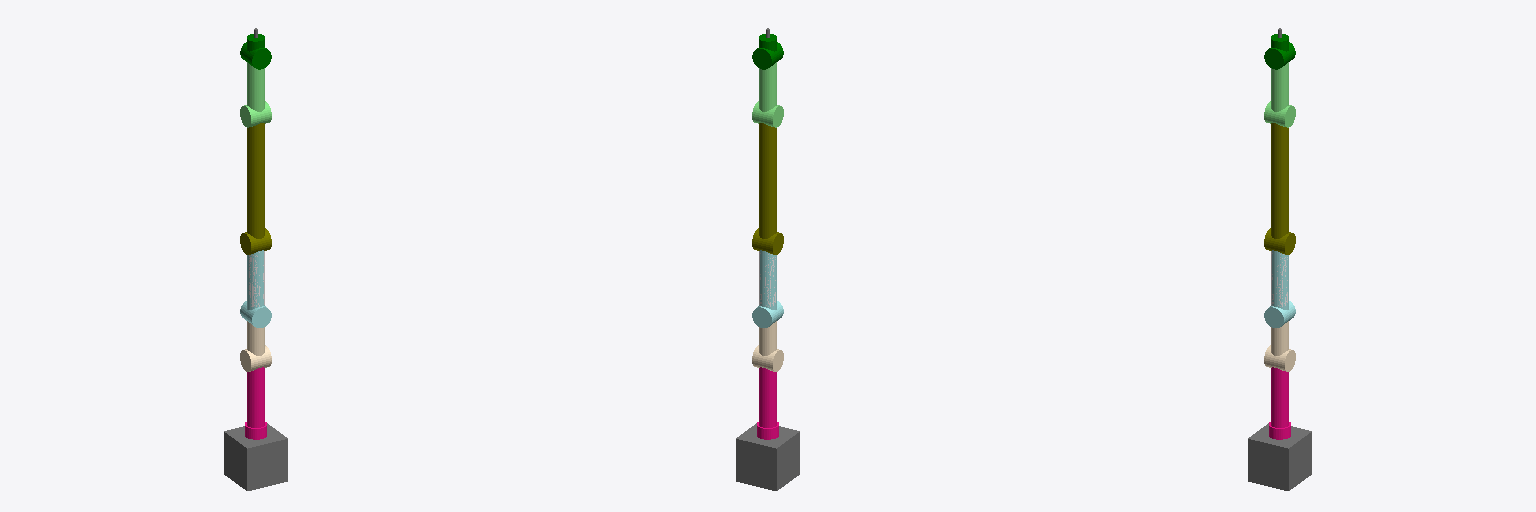
The robot description file, URDF, robot "test_robot":
<?xml version="1.0" ?>
<robot name="test_robot">
    <link name="base_link">
        <inertial>
            <mass value="1.0"/>
            <inertia ixx="0.010416666666666666" iyy="0.010416666666666666" izz="0.010416666666666666" ixy="0.0" ixz="0.0" iyz="0.0"/>
            <origin xyz="0 0 0" rpy="0 0 0"/>
        </inertial>
        <visual>
            <origin xyz="0 0 0" rpy="0 0 0"/>
            <geometry>
                <box size="0.25 0.25 0.25"/>
            </geometry>
            <material name="gray">
                <color rgba="0.5 0.5 0.5 1"/>
            </material>
        </visual>
    </link>
    <joint name="joint_viz0" type="fixed">
        <parent link="base_link"/>
        <child link="joint_viz_link0"/>
        <origin xyz="0 0 0.125" rpy="0 0 0"/>
    </joint>
    <link name="joint_viz_link0">
        <inertial>
            <mass value="0.0"/>
            <inertia ixx="0.0" iyy="0.0" izz="0.0" ixy="0.0" ixz="0.0" iyz="0.0"/>
            <origin xyz="0 0 0" rpy="0 0 0"/>
        </inertial>
        <visual>
            <origin xyz="0 0 0" rpy="0 0 0"/>
            <geometry>
                <cylinder length="0.125" radius="0.06"/>
            </geometry>
            <material name="deeppink">
                <color rgba="1.0 0.0784313725490196 0.5764705882352941 1.0"/>
            </material>
        </visual>
    </link>
    <joint name="joint0" type="revolute">
        <parent link="base_link"/>
        <child link="link0"/>
        <origin xyz="0 0 0.125" rpy="0 0 0"/>
        <axis xyz="0 0 1"/>
        <limit lower="-3.14" upper="3.14" effort="10" velocity="1"/>
    </joint>
    <link name="link0">
        <inertial>
            <mass value="1.0"/>
            <inertia ixx="0.017152729819086193" iyy="0.017152729819086193" izz="0.0012500000000000002" ixy="0.0" ixz="0.0" iyz="0.0"/>
            <origin xyz="0 0 0.22267283053228246" rpy="0 0 0"/>
        </inertial>
        <visual>
            <origin xyz="0 0 0.22267283053228246" rpy="0 0 0"/>
            <geometry>
                <cylinder length="0.4453456610645649" radius="0.05"/>
            </geometry>
            <material name="deeppink">
                <color rgba="1.0 0.0784313725490196 0.5764705882352941 1.0"/>
            </material>
        </visual>
        <collision>
            <origin xyz="0 0 0.22267283053228246" rpy="0 0 0"/>
            <geometry>
                <cylinder length="0.4453456610645649" radius="0.05"/>
            </geometry>
        </collision>
    </link>
    <joint name="joint_viz1" type="fixed">
        <parent link="link0"/>
        <child link="joint_viz_link1"/>
        <origin xyz="0 0 0.4453456610645649" rpy="0 0 0"/>
    </joint>
    <link name="joint_viz_link1">
        <inertial>
            <mass value="0.0"/>
            <inertia ixx="0.0" iyy="0.0" izz="0.0" ixy="0.0" ixz="0.0" iyz="0.0"/>
            <origin xyz="0 0 0" rpy="0 1.57 0"/>
        </inertial>
        <visual>
            <origin xyz="0 0 0" rpy="0 1.57 0"/>
            <geometry>
                <cylinder length="0.125" radius="0.06"/>
            </geometry>
            <material name="blanchedalmond">
                <color rgba="1.0 0.9215686274509803 0.803921568627451 1.0"/>
            </material>
        </visual>
    </link>
    <joint name="joint1" type="revolute">
        <parent link="link0"/>
        <child link="link1"/>
        <origin xyz="0 0 0.4453456610645649" rpy="0 0 0"/>
        <axis xyz="1 0 0"/>
        <limit lower="-3.14" upper="3.14" effort="10" velocity="1"/>
    </joint>
    <link name="link1">
        <inertial>
            <mass value="1.0"/>
            <inertia ixx="0.006338377265924566" iyy="0.006338377265924566" izz="0.0012500000000000002" ixy="0.0" ixz="0.0" iyz="0.0"/>
            <origin xyz="0 0 0.13092032614446733" rpy="0 0 0"/>
        </inertial>
        <visual>
            <origin xyz="0 0 0.13092032614446733" rpy="0 0 0"/>
            <geometry>
                <cylinder length="0.26184065228893466" radius="0.05"/>
            </geometry>
            <material name="blanchedalmond">
                <color rgba="1.0 0.9215686274509803 0.803921568627451 1.0"/>
            </material>
        </visual>
        <collision>
            <origin xyz="0 0 0.13092032614446733" rpy="0 0 0"/>
            <geometry>
                <cylinder length="0.26184065228893466" radius="0.05"/>
            </geometry>
        </collision>
    </link>
    <joint name="joint_viz2" type="fixed">
        <parent link="link1"/>
        <child link="joint_viz_link2"/>
        <origin xyz="0 0 0.26184065228893466" rpy="0 0 0"/>
    </joint>
    <link name="joint_viz_link2">
        <inertial>
            <mass value="0.0"/>
            <inertia ixx="0.0" iyy="0.0" izz="0.0" ixy="0.0" ixz="0.0" iyz="0.0"/>
            <origin xyz="0 0 0" rpy="1.57 0 0"/>
        </inertial>
        <visual>
            <origin xyz="0 0 0" rpy="1.57 0 0"/>
            <geometry>
                <cylinder length="0.125" radius="0.06"/>
            </geometry>
            <material name="paleturquoise">
                <color rgba="0.6862745098039216 0.9333333333333333 0.9333333333333333 1.0"/>
            </material>
        </visual>
    </link>
    <joint name="joint2" type="revolute">
        <parent link="link1"/>
        <child link="link2"/>
        <origin xyz="0 0 0.26184065228893466" rpy="0 0 0"/>
        <axis xyz="0 1 0"/>
        <limit lower="-3.14" upper="3.14" effort="10" velocity="1"/>
    </joint>
    <link name="link2">
        <inertial>
            <mass value="1.0"/>
            <inertia ixx="0.013798214357304606" iyy="0.013798214357304606" izz="0.0012500000000000002" ixy="0.0" ixz="0.0" iyz="0.0"/>
            <origin xyz="0 0 0.19879548051179086" rpy="0 0 0"/>
        </inertial>
        <visual>
            <origin xyz="0 0 0.19879548051179086" rpy="0 0 0"/>
            <geometry>
                <cylinder length="0.3975909610235817" radius="0.05"/>
            </geometry>
            <material name="paleturquoise">
                <color rgba="0.6862745098039216 0.9333333333333333 0.9333333333333333 1.0"/>
            </material>
        </visual>
        <collision>
            <origin xyz="0 0 0.19879548051179086" rpy="0 0 0"/>
            <geometry>
                <cylinder length="0.3975909610235817" radius="0.05"/>
            </geometry>
        </collision>
    </link>
    <joint name="joint3" type="prismatic">
        <parent link="link2"/>
        <child link="link3"/>
        <origin xyz="0 0 0.061" rpy="0 0 0"/>
        <axis xyz="0 0 1"/>
        <limit lower="0" upper="0.3475909610235817" effort="10" velocity="1"/>
    </joint>
    <link name="link3">
        <inertial>
            <mass value="1.0"/>
            <inertia ixx="0.011340623110651326" iyy="0.011340623110651326" izz="0.0012500000000000002" ixy="0.0" ixz="0.0" iyz="0.0"/>
            <origin xyz="0 0 0.17929548051179087" rpy="0 0 0"/>
        </inertial>
        <visual>
            <origin xyz="0 0 0.17929548051179087" rpy="0 0 0"/>
            <geometry>
                <cylinder length="0.35859096102358173" radius="0.05"/>
            </geometry>
            <material name="snow">
                <color rgba="1.0 0.9803921568627451 0.9803921568627451 1.0"/>
            </material>
        </visual>
        <collision>
            <origin xyz="0 0 0.17929548051179087" rpy="0 0 0"/>
            <geometry>
                <cylinder length="0.35859096102358173" radius="0.05"/>
            </geometry>
        </collision>
    </link>
    <joint name="joint_viz4" type="fixed">
        <parent link="link3"/>
        <child link="joint_viz_link4"/>
        <origin xyz="0 0 0.35859096102358173" rpy="0 0 0"/>
    </joint>
    <link name="joint_viz_link4">
        <inertial>
            <mass value="0.0"/>
            <inertia ixx="0.0" iyy="0.0" izz="0.0" ixy="0.0" ixz="0.0" iyz="0.0"/>
            <origin xyz="0 0 0" rpy="0 1.57 0"/>
        </inertial>
        <visual>
            <origin xyz="0 0 0" rpy="0 1.57 0"/>
            <geometry>
                <cylinder length="0.125" radius="0.06"/>
            </geometry>
            <material name="olive">
                <color rgba="0.5019607843137255 0.5019607843137255 0.0 1.0"/>
            </material>
        </visual>
    </link>
    <joint name="joint4" type="revolute">
        <parent link="link3"/>
        <child link="link4"/>
        <origin xyz="0 0 0.35859096102358173" rpy="0 0 0"/>
        <axis xyz="1 0 0"/>
        <limit lower="-3.14" upper="3.14" effort="10" velocity="1"/>
    </joint>
    <link name="link4">
        <inertial>
            <mass value="1.0"/>
            <inertia ixx="0.0464619865386217" iyy="0.0464619865386217" izz="0.0012500000000000002" ixy="0.0" ixz="0.0" iyz="0.0"/>
            <origin xyz="0 0 0.37082470200333895" rpy="0 0 0"/>
        </inertial>
        <visual>
            <origin xyz="0 0 0.37082470200333895" rpy="0 0 0"/>
            <geometry>
                <cylinder length="0.7416494040066779" radius="0.05"/>
            </geometry>
            <material name="olive">
                <color rgba="0.5019607843137255 0.5019607843137255 0.0 1.0"/>
            </material>
        </visual>
        <collision>
            <origin xyz="0 0 0.37082470200333895" rpy="0 0 0"/>
            <geometry>
                <cylinder length="0.7416494040066779" radius="0.05"/>
            </geometry>
        </collision>
    </link>
    <joint name="joint_viz5" type="fixed">
        <parent link="link4"/>
        <child link="joint_viz_link5"/>
        <origin xyz="0 0 0.7416494040066779" rpy="0 0 0"/>
    </joint>
    <link name="joint_viz_link5">
        <inertial>
            <mass value="0.0"/>
            <inertia ixx="0.0" iyy="0.0" izz="0.0" ixy="0.0" ixz="0.0" iyz="0.0"/>
            <origin xyz="0 0 0" rpy="0 1.57 0"/>
        </inertial>
        <visual>
            <origin xyz="0 0 0" rpy="0 1.57 0"/>
            <geometry>
                <cylinder length="0.125" radius="0.06"/>
            </geometry>
            <material name="lightgreen">
                <color rgba="0.5647058823529412 0.9333333333333333 0.5647058823529412 1.0"/>
            </material>
        </visual>
    </link>
    <joint name="joint5" type="revolute">
        <parent link="link4"/>
        <child link="link5"/>
        <origin xyz="0 0 0.7416494040066779" rpy="0 0 0"/>
        <axis xyz="1 0 0"/>
        <limit lower="-3.14" upper="3.14" effort="10" velocity="1"/>
    </joint>
    <link name="link5">
        <inertial>
            <mass value="1.0"/>
            <inertia ixx="0.010624384682641356" iyy="0.010624384682641356" izz="0.0012500000000000002" ixy="0.0" ixz="0.0" iyz="0.0"/>
            <origin xyz="0 0 0.1731997518702728" rpy="0 0 0"/>
        </inertial>
        <visual>
            <origin xyz="0 0 0.1731997518702728" rpy="0 0 0"/>
            <geometry>
                <cylinder length="0.3463995037405456" radius="0.05"/>
            </geometry>
            <material name="lightgreen">
                <color rgba="0.5647058823529412 0.9333333333333333 0.5647058823529412 1.0"/>
            </material>
        </visual>
        <collision>
            <origin xyz="0 0 0.1731997518702728" rpy="0 0 0"/>
            <geometry>
                <cylinder length="0.3463995037405456" radius="0.05"/>
            </geometry>
        </collision>
    </link>
    <joint name="joint_viz6" type="fixed">
        <parent link="link5"/>
        <child link="joint_viz_link6"/>
        <origin xyz="0 0 0.3463995037405456" rpy="0 0 0"/>
    </joint>
    <link name="joint_viz_link6">
        <inertial>
            <mass value="0.0"/>
            <inertia ixx="0.0" iyy="0.0" izz="0.0" ixy="0.0" ixz="0.0" iyz="0.0"/>
            <origin xyz="0 0 0" rpy="1.57 0 0"/>
        </inertial>
        <visual>
            <origin xyz="0 0 0" rpy="1.57 0 0"/>
            <geometry>
                <cylinder length="0.125" radius="0.06"/>
            </geometry>
            <material name="green">
                <color rgba="0.0 0.5019607843137255 0.0 1.0"/>
            </material>
        </visual>
    </link>
    <joint name="joint6" type="revolute">
        <parent link="link5"/>
        <child link="link6"/>
        <origin xyz="0 0 0.3463995037405456" rpy="0 0 0"/>
        <axis xyz="0 1 0"/>
        <limit lower="-3.14" upper="3.14" effort="10" velocity="1"/>
    </joint>
    <link name="link6">
        <inertial>
            <mass value="1.0"/>
            <inertia ixx="0.0014583333333333334" iyy="0.0014583333333333334" izz="0.0012500000000000002" ixy="0.0" ixz="0.0" iyz="0.0"/>
            <origin xyz="0 0 0.05" rpy="0 0 0"/>
        </inertial>
        <visual>
            <origin xyz="0 0 0.05" rpy="0 0 0"/>
            <geometry>
                <cylinder length="0.1" radius="0.05"/>
            </geometry>
            <material name="green">
                <color rgba="0.0 0.5019607843137255 0.0 1.0"/>
            </material>
        </visual>
        <collision>
            <origin xyz="0 0 0.05" rpy="0 0 0"/>
            <geometry>
                <cylinder length="0.1" radius="0.05"/>
            </geometry>
        </collision>
    </link>
    <joint name="probe_joint" type="fixed">
        <parent link="link6"/>
        <child link="probe_link"/>
        <origin xyz="0 0 0.1" rpy="0 0 0"/>
    </joint>
    <link name="probe_link">
        <inertial>
            <mass value="0.0"/>
            <inertia ixx="0.0" iyy="0.0" izz="0.0" ixy="0.0" ixz="0.0" iyz="0.0"/>
            <origin xyz="0 0 0" rpy="0 0 0"/>
        </inertial>
        <visual>
            <origin xyz="0 0 0" rpy="0 0 0"/>
            <geometry>
                <cylinder length="0.1" radius="0.01"/>
            </geometry>
            <material name="gray">
                <color rgba="0.5 0.5 0.5 1"/>
            </material>
        </visual>
    </link>
    <joint name="end_effector_joint" type="fixed">
        <parent link="probe_link"/>
        <child link="end_effector"/>
        <origin xyz="0 0 0.1" rpy="0 0 0"/>
    </joint>
    <link name="end_effector">
        <inertial>
            <mass value="0.0"/>
            <inertia ixx="0.0" iyy="0.0" izz="0.0" ixy="0.0" ixz="0.0" iyz="0.0"/>
            <origin xyz="0 0 0" rpy="0 0 0"/>
        </inertial>
        <visual>
            <origin xyz="0 0 0" rpy="0 0 0"/>
            <geometry>
                <cylinder length="0" radius="0"/>
            </geometry>
            <material name="gray">
                <color rgba="0.5 0.5 0.5 1"/>
            </material>
        </visual>
    </link>
</robot>

--- Render facts (derived) ---
The picture shows the robot from 3 angles, left to right: view 1: azimuth 30°, elevation 25°; view 2: azimuth 150°, elevation 25°; view 3: azimuth 330°, elevation 25°; orthographic projection.
Robot: test_robot — 16 links, 15 joints (6 revolute, 1 prismatic, 8 fixed); root link base_link; default pose: all joints at 0.
Links seen in each view (by area): view 1: base_link, link4, link0, link5, link2, joint_viz_link1, joint_viz_link4; view 2: base_link, link4, link0, link2, link5, joint_viz_link1, joint_viz_link4; view 3: base_link, link4, link0, link2, link5, joint_viz_link1, joint_viz_link4.
Boxes of the visible links, <box> form: base_link: <box>224,423,287,490</box>; link4: <box>247,123,264,238</box>; link0: <box>247,367,264,427</box>; link5: <box>247,62,264,111</box>; link2: <box>247,250,264,309</box>; joint_viz_link1: <box>240,345,271,371</box>; joint_viz_link4: <box>240,228,271,254</box>; base_link: <box>736,423,799,490</box>; link4: <box>759,123,776,238</box>; link0: <box>759,367,776,427</box>; link2: <box>759,250,776,309</box>; link5: <box>759,62,776,111</box>; joint_viz_link1: <box>752,345,783,371</box>; joint_viz_link4: <box>752,228,783,254</box>; base_link: <box>1248,423,1311,490</box>; link4: <box>1271,123,1288,238</box>; link0: <box>1271,367,1288,427</box>; link2: <box>1271,250,1288,309</box>; link5: <box>1271,62,1288,111</box>; joint_viz_link1: <box>1264,345,1295,371</box>; joint_viz_link4: <box>1264,228,1295,254</box>.
Bounding box of the posed robot: 0.25 × 0.25 × 2.66 m (x, y, z).
Geometry: primitives only (box / cylinder / sphere), no mesh files.